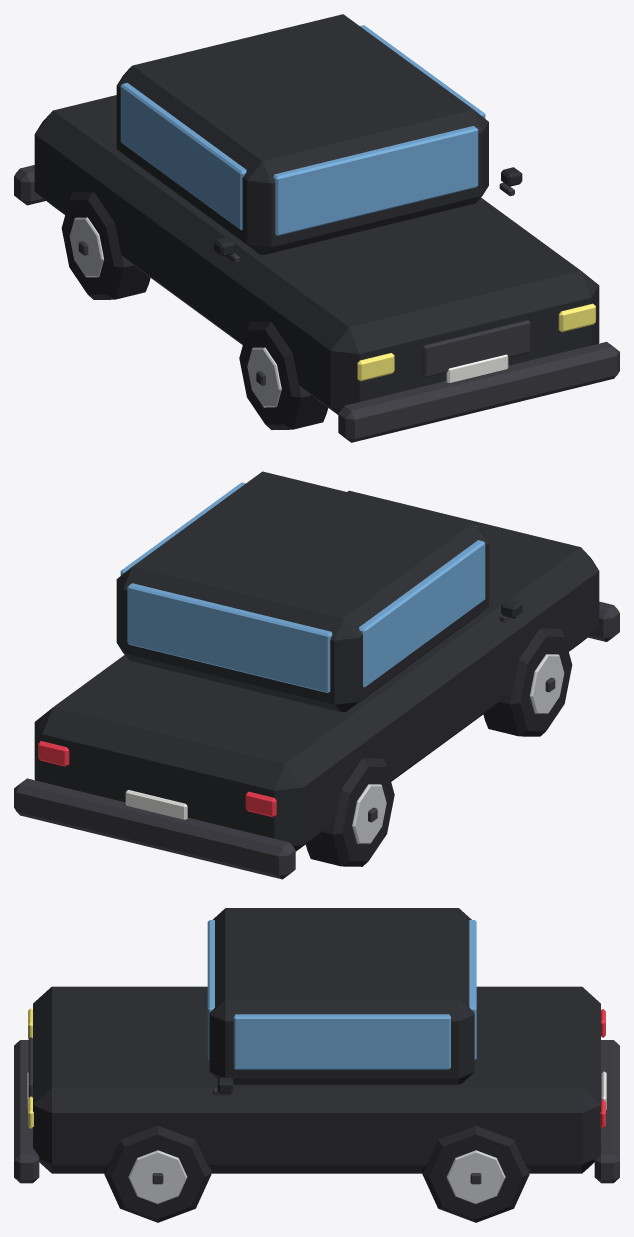
File: BlackCar.fbx
3 views of the same model, one above another, from view 1: azimuth 30°, elevation 25°; view 2: azimuth 150°, elevation 25°; view 3: azimuth 270°, elevation 25° (orthographic). The views are drawn at different scales.
Parts seen in each view (by area): view 1: BlackCar, BlackCar_WheelBR, BlackCar_WheelFR; view 2: BlackCar, BlackCar_WheelBR, BlackCar_WheelFR; view 3: BlackCar, BlackCar_WheelBL, BlackCar_WheelFL.
Part boxes in pixels (box(x1,y1,x2,y2)): BlackCar: box(14, 14, 619, 442); BlackCar_WheelBR: box(61, 191, 150, 299); BlackCar_WheelFR: box(239, 321, 327, 429); BlackCar: box(14, 471, 619, 879); BlackCar_WheelBR: box(305, 758, 394, 866); BlackCar_WheelFR: box(483, 628, 572, 736); BlackCar: box(14, 908, 619, 1183); BlackCar_WheelBL: box(422, 1125, 529, 1222); BlackCar_WheelFL: box(104, 1125, 211, 1222).
Bounding box in the file's own units: 4.95 × 3.67 × 9.6.
Materials: 1 (1 with a texture image).
